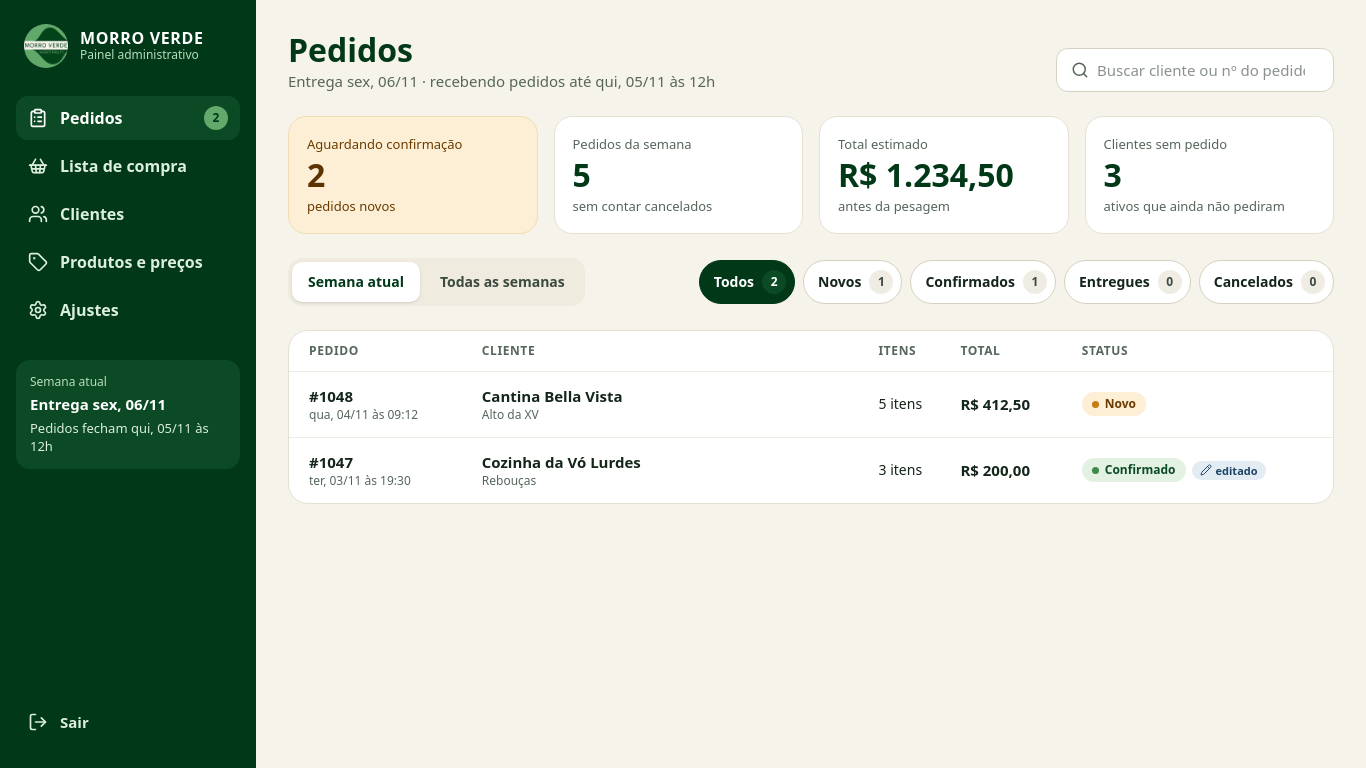
Test case: Pedidos › filtra por status pelos chips
Expected: the text "Cantina Bella Vista" is shown, [482,386,623,406]
What coordinates should you click on to do the following:
click the button "Confirmados 1"
I would click on:
 (983, 282)
Its box is [910,260,1056,304].
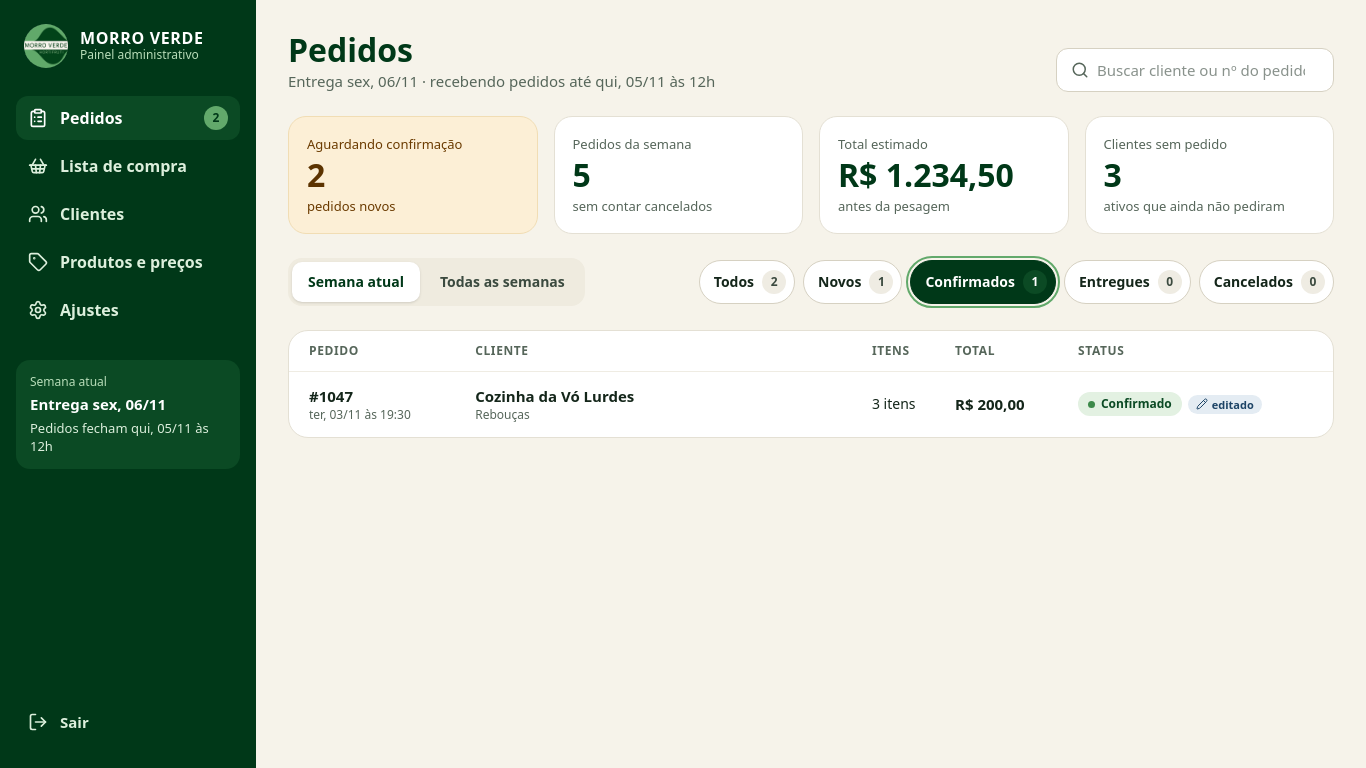
Expected: the text "Cozinha da Vó Lurdes" is shown, [475,386,634,406]
Now the text "Cantina Bella Vista" is gone
